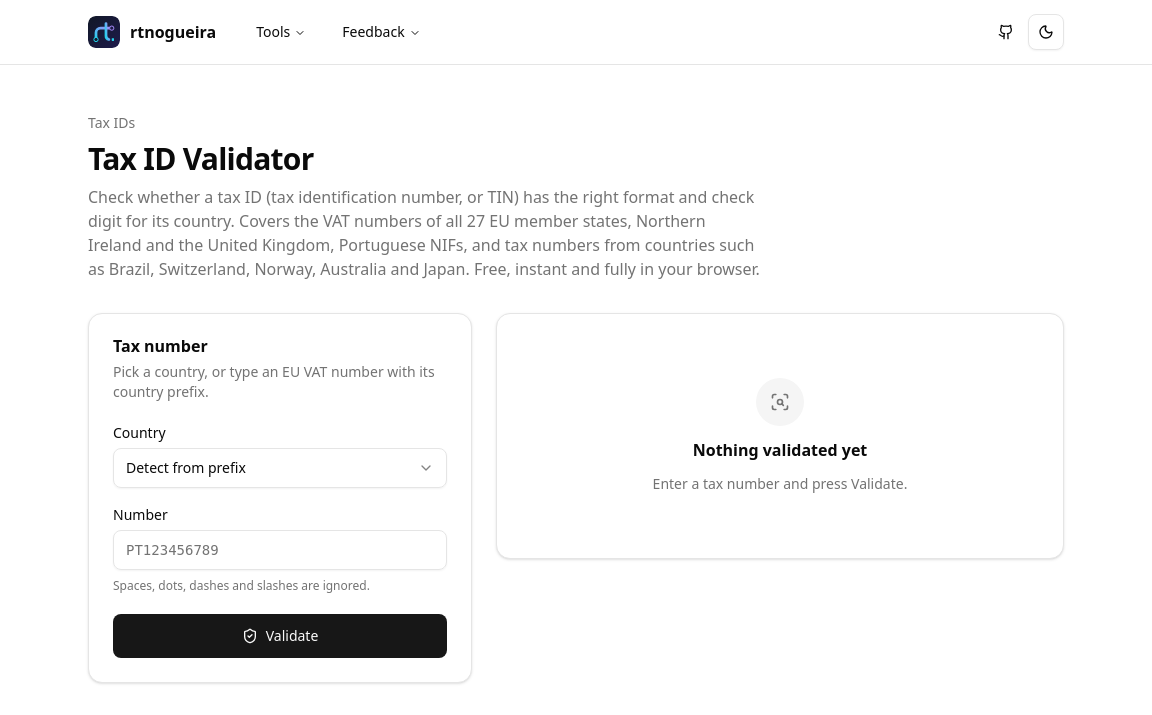
Tax ID validator page › validates numbers from countries outside VIES
Expected: the heading "Tax ID Validator" is shown, [88,138,314,179]
Click the dropdown named "Country": (186, 468) [113,448,447,488]
(page scrolled)
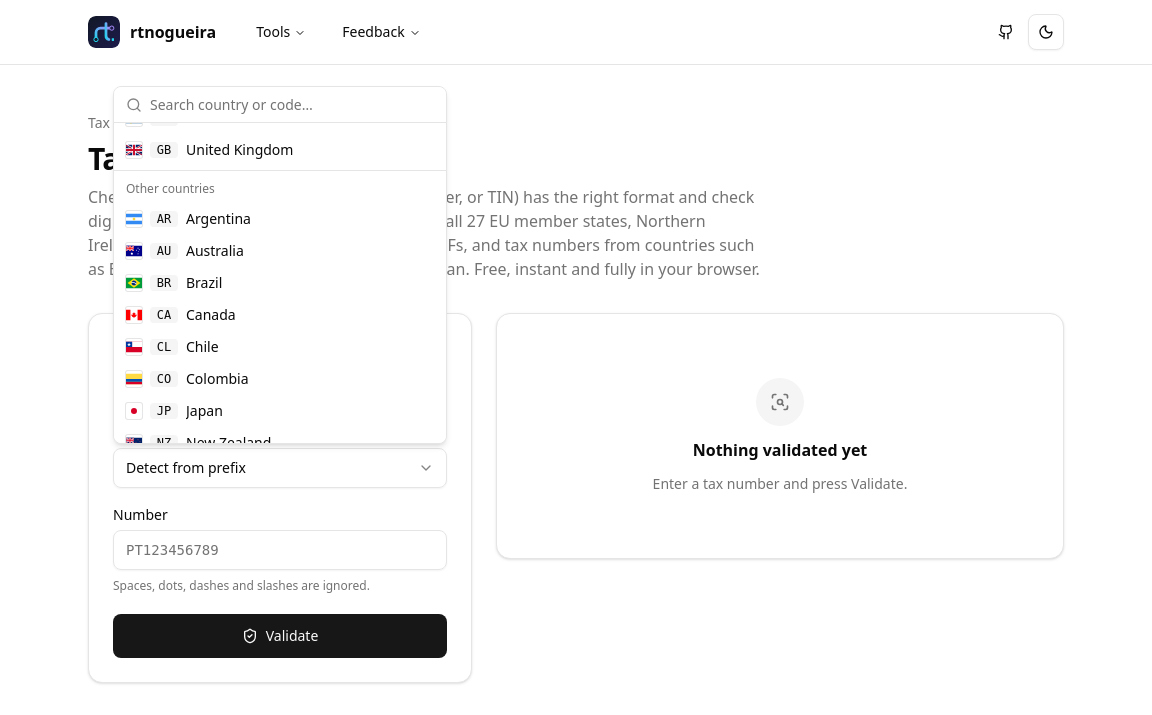
Click the option "BR Brazil": (174, 282) [126,273,222,292]
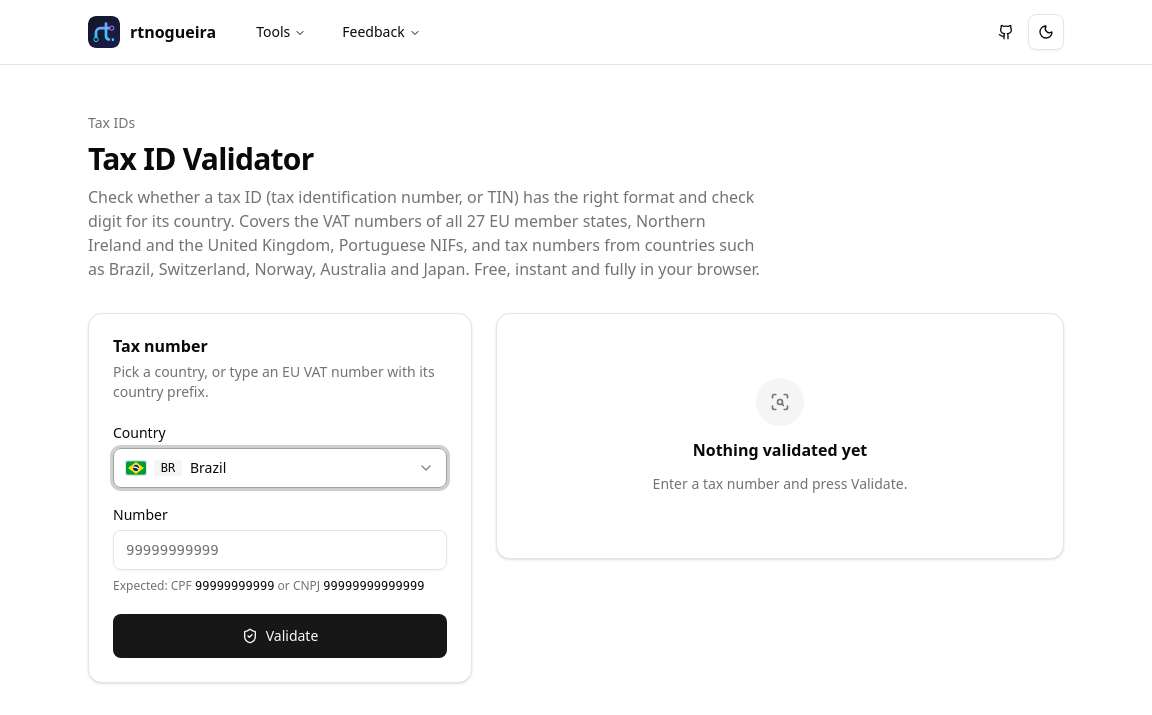
Result: the text "Expected: CPF 99999999999 or CNPJ 99999999999999" is shown at [113,578,447,594]
In the field labelled "Number": (280, 550) [113,530,447,570], type "390.533.447-05"
Then press Enter
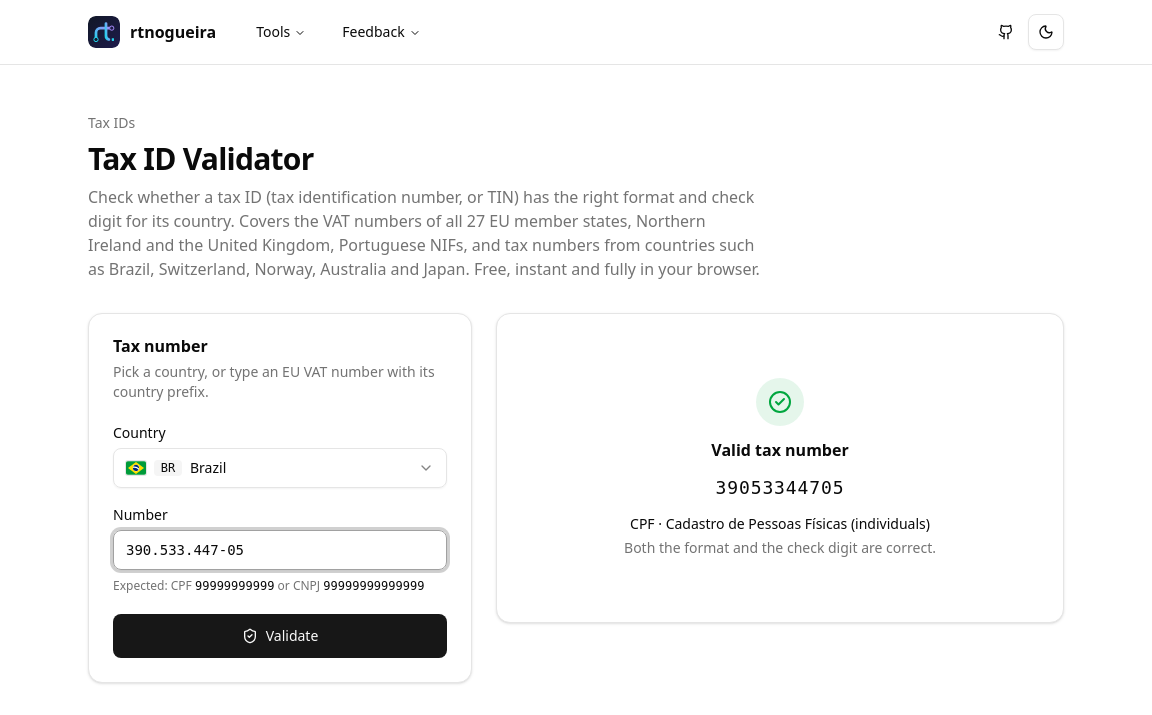
Result: the text "Valid tax number" is shown at [711,438,849,462]
Result: the text "39053344705" is shown at [715,474,844,502]
Result: the text "CPF · Cadastro de Pessoas Físicas (individuals)" is shown at [624,514,936,534]
